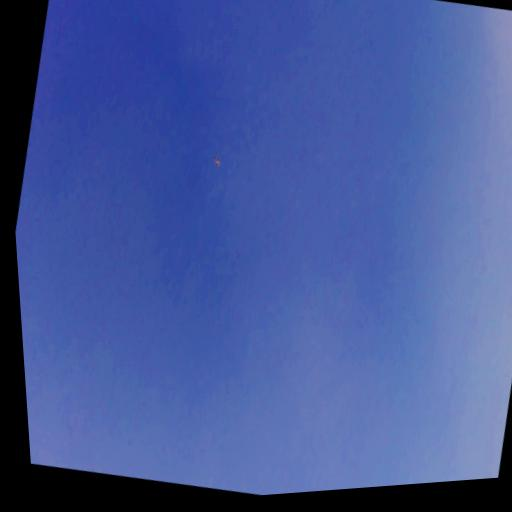drones: (210, 149, 224, 171)
